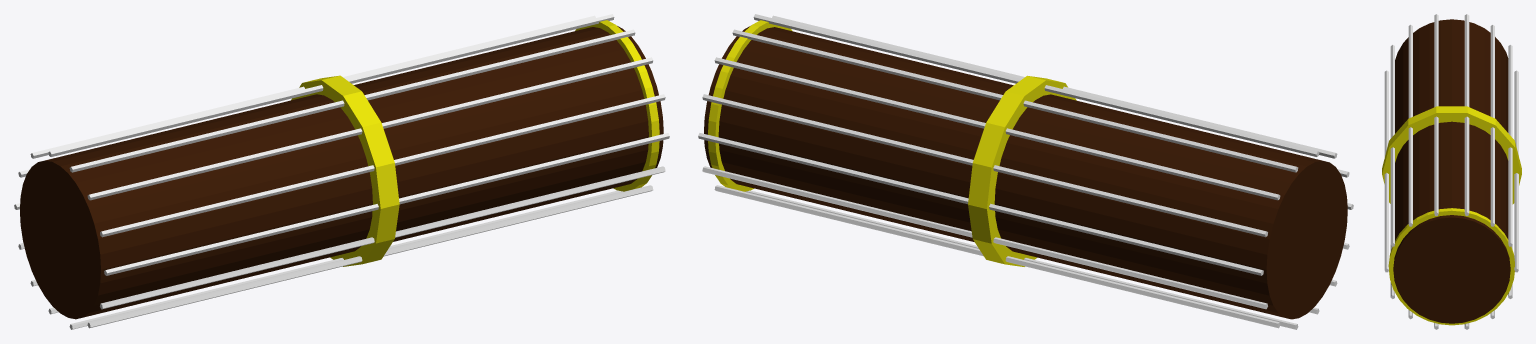
File: pipe.fbx
3 renders of one model, left to right at view 1: azimuth 30°, elevation 25°; view 2: azimuth 150°, elevation 25°; view 3: azimuth 270°, elevation 25°, orthographic. The views are drawn at different scales.
Visible parts, largest first — view 1: Cylinder, Cylinder.001, Cylinder.016, Cylinder.008, Cylinder.015, Cylinder.005, Cylinder.004, Cylinder.003, Cylinder.009, Cylinder.002, Cylinder.010, Cylinder.014; view 2: Cylinder, Cylinder.001, Cylinder.006, Cylinder.007, Cylinder.010, Cylinder.011, Cylinder.012, Cylinder.009, Cylinder.008, Cylinder.002, Cylinder.005, Cylinder.013; view 3: Cylinder, Cylinder.001, Cylinder.002, Cylinder.009, Cylinder.005, Cylinder.008, Cylinder.010, Cylinder.004, Cylinder.011, Cylinder.003, Cylinder.012.
Part boxes in pixels (x1,y1,x2,y2): Cylinder: [20, 26, 663, 319]; Cylinder.001: [291, 75, 399, 266]; Cylinder.016: [100, 166, 665, 309]; Cylinder.008: [69, 29, 635, 172]; Cylinder.015: [87, 185, 653, 328]; Cylinder.005: [87, 57, 653, 200]; Cylinder.004: [100, 94, 665, 237]; Cylinder.003: [104, 133, 669, 275]; Cylinder.009: [48, 14, 614, 156]; Cylinder.002: [575, 20, 659, 191]; Cylinder.010: [30, 15, 595, 158]; Cylinder.014: [69, 190, 623, 329]; Cylinder: [704, 26, 1347, 319]; Cylinder.001: [968, 75, 1076, 266]; Cylinder.006: [702, 166, 1267, 309]; Cylinder.007: [714, 185, 1280, 328]; Cylinder.010: [714, 57, 1280, 200]; Cylinder.011: [702, 94, 1267, 237]; Cylinder.012: [698, 133, 1263, 275]; Cylinder.009: [732, 29, 1298, 172]; Cylinder.008: [753, 14, 1319, 156]; Cylinder.002: [708, 20, 792, 191]; Cylinder.005: [772, 15, 1337, 158]; Cylinder.013: [745, 190, 1298, 329]; Cylinder: [1393, 19, 1510, 323]; Cylinder.001: [1382, 106, 1521, 204]; Cylinder.002: [1388, 208, 1514, 325]; Cylinder.009: [1464, 14, 1469, 215]; Cylinder.005: [1408, 24, 1412, 226]; Cylinder.008: [1434, 14, 1438, 215]; Cylinder.010: [1490, 25, 1494, 226]; Cylinder.004: [1390, 45, 1394, 246]; Cylinder.011: [1508, 45, 1512, 246]; Cylinder.003: [1384, 70, 1388, 272]; Cylinder.012: [1514, 70, 1518, 272].
Bounding box in the file's own units: 800 × 232 × 238.
